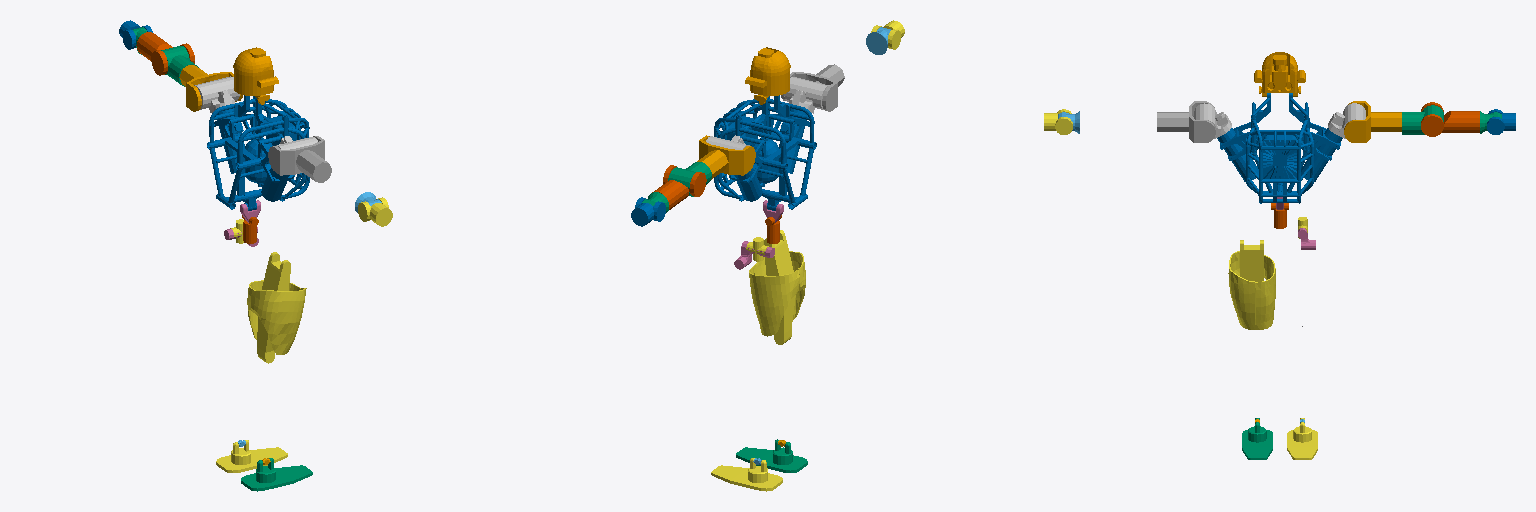
--- Render facts (derived) ---
Views: 3 orthographic renders of the robot side by side, from view 1: azimuth 30°, elevation 25°; view 2: azimuth 150°, elevation 25°; view 3: azimuth 270°, elevation 25°.
Model drc_skeleton with 29 links and 28 joints (28 revolute), rooted at pelvis, posed every joint at zero.
Links seen in each view (by area): view 1: utorso, r_uleg, head, r_scap, r_foot, l_foot, l_clav, l_larm, l_scap, r_hand, l_uarm; view 2: utorso, r_uleg, head, l_scap, l_foot, r_foot, r_scap, r_clav, l_larm, l_hand, l_uarm; view 3: utorso, r_uleg, head, r_scap, l_scap, l_larm, r_foot, l_foot, l_clav, l_uarm, r_clav, l_hand (+1 smaller).
Boxes of the visible links, left/top/right/bottom form: utorso: left=207, top=95, right=309, bottom=210; r_uleg: left=247, top=252, right=306, bottom=363; head: left=233, top=47, right=278, bottom=104; r_scap: left=268, top=136, right=331, bottom=182; r_foot: left=241, top=458, right=312, bottom=491; l_foot: left=216, top=440, right=287, bottom=472; l_clav: left=194, top=76, right=239, bottom=112; l_larm: left=136, top=32, right=194, bottom=75; l_scap: left=179, top=65, right=242, bottom=111; r_hand: left=358, top=197, right=392, bottom=226; l_uarm: left=161, top=46, right=198, bottom=86; utorso: left=714, top=95, right=816, bottom=210; r_uleg: left=749, top=230, right=805, bottom=344; head: left=745, top=47, right=790, bottom=104; l_scap: left=697, top=135, right=755, bottom=179; l_foot: left=711, top=458, right=782, bottom=491; r_foot: left=736, top=439, right=807, bottom=472; r_scap: left=781, top=64, right=844, bottom=111; r_clav: left=784, top=77, right=829, bottom=113; l_larm: left=652, top=165, right=706, bottom=209; l_hand: left=631, top=197, right=665, bottom=226; l_uarm: left=668, top=162, right=711, bottom=196; utorso: left=1217, top=93, right=1342, bottom=203; r_uleg: left=1228, top=240, right=1275, bottom=329; head: left=1254, top=52, right=1305, bottom=96; r_scap: left=1157, top=101, right=1215, bottom=142; l_scap: left=1344, top=101, right=1401, bottom=142; l_larm: left=1421, top=102, right=1479, bottom=136; r_foot: left=1242, top=418, right=1272, bottom=459; l_foot: left=1287, top=418, right=1317, bottom=459; l_clav: left=1328, top=103, right=1365, bottom=138; l_uarm: left=1402, top=105, right=1443, bottom=134; r_clav: left=1193, top=103, right=1231, bottom=138; l_hand: left=1487, top=109, right=1515, bottom=134.
Bounding box of the posed robot: 0.3188 × 1.86 × 1.68 m (x, y, z).
29 mesh visuals loaded from 29 distinct referenced files (29 Collada DAE).

robot.urdf — drc_skeleton:
<robot name="drc_skeleton">
    <link name="head">
        <inertial>
            <mass value="2.6" />
            <origin xyz="-0.004 0 0.056" rpy="0 -0 0" />
            <inertia ixx="0.009" ixy="0" ixz="0" iyy="0.006" iyz="0" izz="0.007" />
        </inertial>
        <visual>
            <origin xyz="0 0 0" rpy="0 -0 0" />
            <geometry>
                <mesh filename="package://mit_robot/meshes/head.dae" scale="1 1 1" />
            </geometry>
        </visual>
        <collision>
            <origin xyz="0 0 0" rpy="0 -0 0" />
            <geometry>
                <mesh filename="package://mit_robot/meshes/head.stl" scale="1 1 1" />
            </geometry>
        </collision>
    </link>
    <link name="l_clav">
        <inertial>
            <mass value="2.369" />
            <origin xyz="0.014 0.058 0.029" rpy="0 -0 0" />
            <inertia ixx="0.004" ixy="0.001" ixz="0" iyy="0.006" iyz="0" izz="0.007" />
        </inertial>
        <visual>
            <origin xyz="0 0 0" rpy="0 -0 0" />
            <geometry>
                <mesh filename="package://mit_robot/meshes/l_clav.dae" scale="1 1 1" />
            </geometry>
        </visual>
        <collision>
            <origin xyz="0 0 0" rpy="0 -0 0" />
            <geometry>
                <mesh filename="package://mit_robot/meshes/l_clav.stl" scale="1 1 1" />
            </geometry>
        </collision>
    </link>
    <link name="l_farm">
        <inertial>
            <mass value="0.981" />
            <origin xyz="0 0.041 0" rpy="0 -0 0" />
            <inertia ixx="0.003" ixy="0" ixz="0" iyy="0.001" iyz="0" izz="0.003" />
        </inertial>
        <visual>
            <origin xyz="0 0 0" rpy="0 -0 0" />
            <geometry>
                <mesh filename="package://mit_robot/meshes/l_farm.dae" scale="1 1 1" />
            </geometry>
        </visual>
        <collision>
            <origin xyz="0 0 0" rpy="0 -0 0" />
            <geometry>
                <mesh filename="package://mit_robot/meshes/l_farm.stl" scale="1 1 1" />
            </geometry>
        </collision>
    </link>
    <link name="l_foot">
        <inertial>
            <mass value="1.634" />
            <origin xyz="0.027 0 -0.067" rpy="0 -0 0" />
            <inertia ixx="0.002" ixy="0" ixz="0" iyy="0.007" iyz="0" izz="0.008" />
        </inertial>
        <visual>
            <origin xyz="0 0 0" rpy="0 -0 0" />
            <geometry>
                <mesh filename="package://mit_robot/meshes/l_foot.dae" scale="1 1 1" />
            </geometry>
        </visual>
        <collision>
            <origin xyz="0 0 0" rpy="0 -0 0" />
            <geometry>
                <mesh filename="package://mit_robot/meshes/l_foot.stl" scale="1 1 1" />
            </geometry>
        </collision>
    </link>
    <link name="l_hand">
        <inertial>
            <mass value="2.263" />
            <origin xyz="0 0.093 0" rpy="0 -0 0" />
            <inertia ixx="0.01" ixy="0" ixz="0" iyy="0.002" iyz="0" izz="0.01" />
        </inertial>
        <visual>
            <origin xyz="0 0 0" rpy="0 -0 0" />
            <geometry>
                <mesh filename="package://mit_robot/meshes/l_hand.dae" scale="1 1 1" />
            </geometry>
        </visual>
        <collision>
            <origin xyz="0 0 0" rpy="0 -0 0" />
            <geometry>
                <mesh filename="package://mit_robot/meshes/l_hand.stl" scale="1 1 1" />
            </geometry>
        </collision>
    </link>
    <link name="l_larm">
        <inertial>
            <mass value="2.148" />
            <origin xyz="-0.003 0.099 -0.014" rpy="0 -0 0" />
            <inertia ixx="0.005" ixy="0" ixz="0" iyy="0.003" iyz="0" izz="0.006" />
        </inertial>
        <visual>
            <origin xyz="0 0 0" rpy="0 -0 0" />
            <geometry>
                <mesh filename="package://mit_robot/meshes/l_larm.dae" scale="1 1 1" />
            </geometry>
        </visual>
        <collision>
            <origin xyz="0 0 0" rpy="0 -0 0" />
            <geometry>
                <mesh filename="package://mit_robot/meshes/l_larm.stl" scale="1 1 1" />
            </geometry>
        </collision>
    </link>
    <link name="l_lglut">
        <inertial>
            <mass value="0.69" />
            <origin xyz="0.0133341 0.0170484 -0.0312052" rpy="0 -0 0" />
            <inertia ixx="0.000691326" ixy="-2.24344e-05" ixz="2.50508e-06" iyy="0.00126856" iyz="0.000137862" izz="0.00106487" />
        </inertial>
        <visual>
            <origin xyz="0 0 0" rpy="0 -0 0" />
            <geometry>
                <mesh filename="package://mit_robot/meshes/l_lglut.dae" scale="1 1 1" />
            </geometry>
        </visual>
        <collision>
            <origin xyz="0 0 0" rpy="0 -0 0" />
            <geometry>
                <mesh filename="package://mit_robot/meshes/l_lglut.stl" scale="1 1 1" />
            </geometry>
        </collision>
    </link>
    <link name="l_lleg">
        <inertial>
            <mass value="4.367" />
            <origin xyz="0.001 0 -0.187" rpy="0 -0 0" />
            <inertia ixx="0.077" ixy="0" ixz="-0.003" iyy="0.076" iyz="0" izz="0.01" />
        </inertial>
        <visual>
            <origin xyz="0 0 0" rpy="0 -0 0" />
            <geometry>
                <mesh filename="package://mit_robot/meshes/l_lleg.dae" scale="1 1 1" />
            </geometry>
        </visual>
        <collision>
            <origin xyz="0 0 0" rpy="0 -0 0" />
            <geometry>
                <mesh filename="package://mit_robot/meshes/l_lleg.stl" scale="1 1 1" />
            </geometry>
        </collision>
    </link>
    <link name="l_scap">
        <inertial>
            <mass value="2.707" />
            <origin xyz="-0.002 0.108 0" rpy="0 -0 0" />
            <inertia ixx="0.01" ixy="0" ixz="0" iyy="0.005" iyz="0" izz="0.013" />
        </inertial>
        <visual>
            <origin xyz="0 0 0" rpy="0 -0 0" />
            <geometry>
                <mesh filename="package://mit_robot/meshes/l_scap.dae" scale="1 1 1" />
            </geometry>
        </visual>
        <collision>
            <origin xyz="0 0 0" rpy="0 -0 0" />
            <geometry>
                <mesh filename="package://mit_robot/meshes/l_scap.stl" scale="1 1 1" />
            </geometry>
        </collision>
    </link>
    <link name="l_talus">
        <inertial>
            <mass value="0.1" />
            <origin xyz="0 0 0" rpy="0 -0 0" />
            <inertia ixx="1.01674e-05" ixy="0" ixz="0" iyy="8.42775e-06" iyz="0" izz="1.30101e-05" />
        </inertial>
        <visual>
            <origin xyz="0 0 0" rpy="0 -0 0" />
            <geometry>
                <mesh filename="package://mit_robot/meshes/l_talus.dae" scale="1 1 1" />
            </geometry>
        </visual>
        <collision>
            <origin xyz="0 0 0" rpy="0 -0 0" />
            <geometry>
                <mesh filename="package://mit_robot/meshes/l_talus.stl" scale="1 1 1" />
            </geometry>
        </collision>
    </link>
    <link name="l_uarm">
        <inertial>
            <mass value="1.881" />
            <origin xyz="0.007 0.114 0.008" rpy="0 -0 0" />
            <inertia ixx="0.002" ixy="0" ixz="0" iyy="0.003" iyz="0" izz="0.003" />
        </inertial>
        <visual>
            <origin xyz="0 0 0" rpy="0 -0 0" />
            <geometry>
                <mesh filename="package://mit_robot/meshes/l_uarm.dae" scale="1 1 1" />
            </geometry>
        </visual>
        <collision>
            <origin xyz="0 0 0" rpy="0 -0 0" />
            <geometry>
                <mesh filename="package://mit_robot/meshes/l_uarm.stl" scale="1 1 1" />
            </geometry>
        </collision>
    </link>
    <link name="l_uglut">
        <inertial>
            <mass value="0.5166" />
            <origin xyz="0.00529262 -0.00344732 0.00313046" rpy="0 -0 0" />
            <inertia ixx="0.00074276" ixy="-3.79607e-08" ixz="-2.79549e-05" iyy="0.000688179" iyz="-3.2735e-08" izz="0.00041242" />
        </inertial>
        <visual>
            <origin xyz="0 0 0" rpy="0 -0 0" />
            <geometry>
                <mesh filename="package://mit_robot/meshes/l_uglut.dae" scale="1 1 1" />
            </geometry>
        </visual>
        <collision>
            <origin xyz="0 0 0" rpy="0 -0 0" />
            <geometry>
                <mesh filename="package://mit_robot/meshes/l_uglut.stl" scale="1 1 1" />
            </geometry>
        </collision>
    </link>
    <link name="l_uleg">
        <inertial>
            <mass value="7.34" />
            <origin xyz="0 0 -0.21" rpy="0 -0 0" />
            <inertia ixx="0.09" ixy="0" ixz="0" iyy="0.09" iyz="0" izz="0.02" />
        </inertial>
        <visual>
            <origin xyz="0 0 0" rpy="0 -0 0" />
            <geometry>
                <mesh filename="package://mit_robot/meshes/l_uleg.dae" scale="1 1 1" />
            </geometry>
        </visual>
        <collision>
            <origin xyz="0 0 0" rpy="0 -0 0" />
            <geometry>
                <mesh filename="package://mit_robot/meshes/l_uleg.stl" scale="1 1 1" />
            </geometry>
        </collision>
    </link>
    <link name="ltorso">
        <inertial>
            <mass value="1.92" />
            <origin xyz="-0.0112984 -3.15366e-06 0.0746835" rpy="0 -0 0" />
            <inertia ixx="0.0039092" ixy="-5.04491e-08" ixz="-0.000342157" iyy="0.00341694" iyz="4.87119e-07" izz="0.00174492" />
        </inertial>
        <visual>
            <origin xyz="0 0 0" rpy="0 -0 0" />
            <geometry>
                <mesh filename="package://mit_robot/meshes/ltorso.dae" scale="1 1 1" />
            </geometry>
        </visual>
        <collision>
            <origin xyz="0 0 0" rpy="0 -0 0" />
            <geometry>
                <mesh filename="package://mit_robot/meshes/ltorso.stl" scale="1 1 1" />
            </geometry>
        </collision>
    </link>
    <link name="mtorso">
        <inertial>
            <mass value="0.55" />
            <origin xyz="-0.00816266 -0.0131245 0.0305974" rpy="0 -0 0" />
            <inertia ixx="0.000454181" ixy="-6.10764e-05" ixz="3.94009e-05" iyy="0.000483282" iyz="5.27463e-05" izz="0.000444215" />
        </inertial>
        <visual>
            <origin xyz="0 0 0" rpy="0 -0 0" />
            <geometry>
                <mesh filename="package://mit_robot/meshes/mtorso.dae" scale="1 1 1" />
            </geometry>
        </visual>
        <collision>
            <origin xyz="0 0 0" rpy="0 -0 0" />
            <geometry>
                <mesh filename="package://mit_robot/meshes/mtorso.stl" scale="1 1 1" />
            </geometry>
        </collision>
    </link>
    <link name="pelvis">
        <inertial>
            <mass value="14.2529" />
            <origin xyz="0.0111 0 0.0271" rpy="0 -0 0" />
            <inertia ixx="0.1244" ixy="0.0008" ixz="-0.0007" iyy="0.0958" iyz="-0.0005" izz="0.1167" />
        </inertial>
        <visual>
            <origin xyz="0 0 0" rpy="0 -0 0" />
            <geometry>
                <mesh filename="package://mit_robot/meshes/pelvis.dae" scale="1 1 1" />
            </geometry>
        </visual>
        <collision>
            <origin xyz="0 0 0" rpy="0 -0 0" />
            <geometry>
                <mesh filename="package://mit_robot/meshes/pelvis.stl" scale="1 1 1" />
            </geometry>
        </collision>
    </link>
    <link name="r_clav">
        <inertial>
            <mass value="2.369" />
            <origin xyz="0.014 -0.058 0.029" rpy="0 -0 0" />
            <inertia ixx="0.004" ixy="-0.001" ixz="0" iyy="0.006" iyz="0" izz="0.007" />
        </inertial>
        <visual>
            <origin xyz="0 0 0" rpy="0 -0 0" />
            <geometry>
                <mesh filename="package://mit_robot/meshes/r_clav.dae" scale="1 1 1" />
            </geometry>
        </visual>
        <collision>
            <origin xyz="0 0 0" rpy="0 -0 0" />
            <geometry>
                <mesh filename="package://mit_robot/meshes/r_clav.stl" scale="1 1 1" />
            </geometry>
        </collision>
    </link>
    <link name="r_farm">
        <inertial>
            <mass value="0.981" />
            <origin xyz="0 -0.041 0" rpy="0 -0 0" />
            <inertia ixx="0.003" ixy="0" ixz="0" iyy="0.001" iyz="0" izz="0.003" />
        </inertial>
        <visual>
            <origin xyz="0 0 0" rpy="0 -0 0" />
            <geometry>
                <mesh filename="package://mit_robot/meshes/r_farm.dae" scale="1 1 1" />
            </geometry>
        </visual>
        <collision>
            <origin xyz="0 0 0" rpy="0 -0 0" />
            <geometry>
                <mesh filename="package://mit_robot/meshes/r_farm.stl" scale="1 1 1" />
            </geometry>
        </collision>
    </link>
    <link name="r_foot">
        <inertial>
            <mass value="1.634" />
            <origin xyz="0.027 0 -0.067" rpy="0 -0 0" />
            <inertia ixx="0.002" ixy="0" ixz="0" iyy="0.007" iyz="0" izz="0.008" />
        </inertial>
        <visual>
            <origin xyz="0 0 0" rpy="0 -0 0" />
            <geometry>
                <mesh filename="package://mit_robot/meshes/r_foot.dae" scale="1 1 1" />
            </geometry>
        </visual>
        <collision>
            <origin xyz="0 0 0" rpy="0 -0 0" />
            <geometry>
                <mesh filename="package://mit_robot/meshes/r_foot.stl" scale="1 1 1" />
            </geometry>
        </collision>
    </link>
    <link name="r_hand">
        <inertial>
            <mass value="2.263" />
            <origin xyz="0 -0.093 0" rpy="0 -0 0" />
            <inertia ixx="0.01" ixy="0" ixz="0" iyy="0.002" iyz="0" izz="0.01" />
        </inertial>
        <visual>
            <origin xyz="0 0 0" rpy="0 -0 0" />
            <geometry>
                <mesh filename="package://mit_robot/meshes/r_hand.dae" scale="1 1 1" />
            </geometry>
        </visual>
        <collision>
            <origin xyz="0 0 0" rpy="0 -0 0" />
            <geometry>
                <mesh filename="package://mit_robot/meshes/r_hand.stl" scale="1 1 1" />
            </geometry>
        </collision>
    </link>
    <link name="r_larm">
        <inertial>
            <mass value="2.148" />
            <origin xyz="-0.003 -0.099 -0.014" rpy="0 -0 0" />
            <inertia ixx="0.005" ixy="0" ixz="0" iyy="0.003" iyz="0" izz="0.006" />
        </inertial>
        <visual>
            <origin xyz="0 0 0" rpy="0 -0 0" />
            <geometry>
                <mesh filename="package://mit_robot/meshes/r_larm.dae" scale="1 1 1" />
            </geometry>
        </visual>
        <collision>
            <origin xyz="0 0 0" rpy="0 -0 0" />
            <geometry>
                <mesh filename="package://mit_robot/meshes/r_larm.stl" scale="1 1 1" />
            </geometry>
        </collision>
    </link>
    <link name="r_lglut">
        <inertial>
            <mass value="0.69" />
            <origin xyz="0.0133341 -0.0170484 -0.0312052" rpy="0 -0 0" />
            <inertia ixx="0.000691326" ixy="2.24344e-05" ixz="2.50508e-06" iyy="0.00126856" iyz="-0.000137862" izz="0.00106487" />
        </inertial>
        <visual>
            <origin xyz="0 0 0" rpy="0 -0 0" />
            <geometry>
                <mesh filename="package://mit_robot/meshes/r_lglut.dae" scale="1 1 1" />
            </geometry>
        </visual>
        <collision>
            <origin xyz="0 0 0" rpy="0 -0 0" />
            <geometry>
                <mesh filename="package://mit_robot/meshes/r_lglut.stl" scale="1 1 1" />
            </geometry>
        </collision>
    </link>
    <link name="r_lleg">
        <inertial>
            <mass value="4.367" />
            <origin xyz="0.001 0 -0.187" rpy="0 -0 0" />
            <inertia ixx="0.077" ixy="-0" ixz="-0.003" iyy="0.076" iyz="-0" izz="0.01" />
        </inertial>
        <visual>
            <origin xyz="0 0 0" rpy="0 -0 0" />
            <geometry>
                <mesh filename="package://mit_robot/meshes/r_lleg.dae" scale="1 1 1" />
            </geometry>
        </visual>
        <collision>
            <origin xyz="0 0 0" rpy="0 -0 0" />
            <geometry>
                <mesh filename="package://mit_robot/meshes/r_lleg.stl" scale="1 1 1" />
            </geometry>
        </collision>
    </link>
    <link name="r_scap">
        <inertial>
            <mass value="2.707" />
            <origin xyz="-0.002 -0.108 0" rpy="0 -0 0" />
            <inertia ixx="0.01" ixy="0" ixz="0" iyy="0.005" iyz="0" izz="0.013" />
        </inertial>
        <visual>
            <origin xyz="0 0 0" rpy="0 -0 0" />
            <geometry>
                <mesh filename="package://mit_robot/meshes/r_scap.dae" scale="1 1 1" />
            </geometry>
        </visual>
        <collision>
            <origin xyz="0 0 0" rpy="0 -0 0" />
            <geometry>
                <mesh filename="package://mit_robot/meshes/r_scap.stl" scale="1 1 1" />
            </geometry>
        </collision>
    </link>
    <link name="r_talus">
        <inertial>
            <mass value="0.1" />
            <origin xyz="0 0 0" rpy="0 -0 0" />
            <inertia ixx="1.01674e-05" ixy="0" ixz="0" iyy="8.42775e-06" iyz="0" izz="1.30101e-05" />
        </inertial>
        <visual>
            <origin xyz="0 0 0" rpy="0 -0 0" />
            <geometry>
                <mesh filename="package://mit_robot/meshes/r_talus.dae" scale="1 1 1" />
            </geometry>
        </visual>
        <collision>
            <origin xyz="0 0 0" rpy="0 -0 0" />
            <geometry>
                <mesh filename="package://mit_robot/meshes/r_talus.stl" scale="1 1 1" />
            </geometry>
        </collision>
    </link>
    <link name="r_uarm">
        <inertial>
            <mass value="1.881" />
            <origin xyz="0.007 -0.114 0.008" rpy="0 -0 0" />
            <inertia ixx="0.002" ixy="0" ixz="0" iyy="0.003" iyz="0" izz="0.003" />
        </inertial>
        <visual>
            <origin xyz="0 0 0" rpy="0 -0 0" />
            <geometry>
                <mesh filename="package://mit_robot/meshes/r_uarm.dae" scale="1 1 1" />
            </geometry>
        </visual>
        <collision>
            <origin xyz="0 0 0" rpy="0 -0 0" />
            <geometry>
                <mesh filename="package://mit_robot/meshes/r_uarm.stl" scale="1 1 1" />
            </geometry>
        </collision>
    </link>
    <link name="r_uglut">
        <inertial>
            <mass value="0.5166" />
            <origin xyz="0.00529262 0.00344732 0.00313046" rpy="0 -0 0" />
            <inertia ixx="0.00074276" ixy="3.79607e-08" ixz="-2.79549e-05" iyy="0.000688179" iyz="3.2735e-08" izz="0.00041242" />
        </inertial>
        <visual>
            <origin xyz="0 0 0" rpy="0 -0 0" />
            <geometry>
                <mesh filename="package://mit_robot/meshes/r_uglut.dae" scale="1 1 1" />
            </geometry>
        </visual>
        <collision>
            <origin xyz="0 0 0" rpy="0 -0 0" />
            <geometry>
                <mesh filename="package://mit_robot/meshes/r_uglut.stl" scale="1 1 1" />
            </geometry>
        </collision>
    </link>
    <link name="r_uleg">
        <inertial>
            <mass value="7.34" />
            <origin xyz="0 0 -0.21" rpy="0 -0 0" />
            <inertia ixx="0.09" ixy="0" ixz="0" iyy="0.09" iyz="0" izz="0.02" />
        </inertial>
        <visual>
            <origin xyz="0 0 0" rpy="0 -0 0" />
            <geometry>
                <mesh filename="package://mit_robot/meshes/r_uleg.dae" scale="1 1 1" />
            </geometry>
        </visual>
        <collision>
            <origin xyz="0 0 0" rpy="0 -0 0" />
            <geometry>
                <mesh filename="package://mit_robot/meshes/r_uleg.stl" scale="1 1 1" />
            </geometry>
        </collision>
    </link>
    <link name="utorso">
        <inertial>
            <mass value="18.484" />
            <origin xyz="0.02 -0.001 0.211" rpy="0 -0 0" />
            <inertia ixx="0.395" ixy="0" ixz="0.083" iyy="1.089" iyz="-0.003" izz="0.327" />
        </inertial>
        <visual>
            <origin xyz="0 0 0" rpy="0 -0 0" />
            <geometry>
                <mesh filename="package://mit_robot/meshes/utorso.dae" scale="1 1 1" />
            </geometry>
        </visual>
        <collision>
            <origin xyz="0 0 0" rpy="0 -0 0" />
            <geometry>
                <mesh filename="package://mit_robot/meshes/utorso.stl" scale="1 1 1" />
            </geometry>
        </collision>
    </link>
    <joint name="back_lbz" type="revolute">
        <origin xyz="-0.0125 0 0" rpy="0 -0 0" />
        <axis xyz="0 0 1" />
        <parent link="pelvis" />
        <child link="ltorso" />
        <dynamics damping="0.1" friction="0" />
        <limit effort="124.016" velocity="12" lower="-0.610865" upper="0.610865" />
        <safety_controller k_position="100" k_velocity="100" soft_lower_limit="-10.6109" soft_upper_limit="10.6109" />
    </joint>
    <joint name="back_mby" type="revolute">
        <origin xyz="0 0 0.09" rpy="0 -0 0" />
        <axis xyz="0 1 0" />
        <parent link="ltorso" />
        <child link="mtorso" />
        <dynamics damping="0.1" friction="0" />
        <limit effort="206.843" velocity="12" lower="-1.2" upper="1.28" />
        <safety_controller k_position="100" k_velocity="100" soft_lower_limit="-11.2" soft_upper_limit="11.28" />
    </joint>
    <joint name="back_ubx" type="revolute">
        <origin xyz="0 0 0.05" rpy="0 -0 0" />
        <axis xyz="1 0 0" />
        <parent link="mtorso" />
        <child link="utorso" />
        <dynamics damping="0.1" friction="0" />
        <limit effort="94.91" velocity="12" lower="-0.790809" upper="0.790809" />
        <safety_controller k_position="100" k_velocity="100" soft_lower_limit="-10.7908" soft_upper_limit="10.7908" />
    </joint>
    <joint name="l_arm_elx" type="revolute">
        <origin xyz="0 0.121 0.013" rpy="0 -0 0" />
        <axis xyz="1 0 0" />
        <parent link="l_uarm" />
        <child link="l_larm" />
        <dynamics damping="0.1" friction="0" />
        <limit effort="114" velocity="12" lower="0" upper="2.35619" />
        <safety_controller k_position="100" k_velocity="100" soft_lower_limit="-10" soft_upper_limit="12.3562" />
    </joint>
    <joint name="l_arm_ely" type="revolute">
        <origin xyz="0 0.185 0" rpy="0 -0 0" />
        <axis xyz="0 1 0" />
        <parent link="l_scap" />
        <child link="l_uarm" />
        <dynamics damping="0.1" friction="0" />
        <limit effort="114" velocity="12" lower="0" upper="3.14159" />
        <safety_controller k_position="100" k_velocity="100" soft_lower_limit="-10" soft_upper_limit="13.1416" />
    </joint>
    <joint name="l_arm_mwx" type="revolute">
        <origin xyz="0 0.058 0" rpy="0 -0 0" />
        <axis xyz="1 0 0" />
        <parent link="l_farm" />
        <child link="l_hand" />
        <dynamics damping="0.1" friction="0" />
        <limit effort="60" velocity="12" lower="-0.436" upper="1.571" />
        <safety_controller k_position="100" k_velocity="100" soft_lower_limit="-10.436" soft_upper_limit="11.571" />
    </joint>
    <joint name="l_arm_shx" type="revolute">
        <origin xyz="0 0.075 0.036" rpy="0 -0 0" />
        <axis xyz="1 0 0" />
        <parent link="l_clav" />
        <child link="l_scap" />
        <dynamics damping="0.1" friction="0" />
        <limit effort="170" velocity="12" lower="-1.39626" upper="1.74533" />
        <safety_controller k_position="100" k_velocity="100" soft_lower_limit="-11.3963" soft_upper_limit="11.7453" />
    </joint>
    <joint name="l_arm_usy" type="revolute">
        <origin xyz="0.024 0.221 0.289" rpy="0 -0 0" />
        <axis xyz="0 0.5 0.866025" />
        <parent link="utorso" />
        <child link="l_clav" />
        <dynamics damping="0.1" friction="0" />
        <limit effort="212" velocity="12" lower="-1.9635" upper="1.9635" />
        <safety_controller k_position="100" k_velocity="100" soft_lower_limit="-11.9635" soft_upper_limit="11.9635" />
    </joint>
    <joint name="l_arm_uwy" type="revolute">
        <origin xyz="0 0.188 -0.013" rpy="0 -0 0" />
        <axis xyz="0 1 0" />
        <parent link="l_larm" />
        <child link="l_farm" />
        <dynamics damping="0.1" friction="0" />
        <limit effort="114" velocity="12" lower="-1.571" upper="1.571" />
        <safety_controller k_position="100" k_velocity="100" soft_lower_limit="-11.571" soft_upper_limit="11.571" />
    </joint>
    <joint name="l_leg_kny" type="revolute">
        <origin xyz="-0.05 0 -0.374" rpy="0 -0 0" />
        <axis xyz="0 1 0" />
        <parent link="l_uleg" />
        <child link="l_lleg" />
        <dynamics damping="0.1" friction="0" />
        <limit effort="220" velocity="12" lower="0" upper="2.45" />
        <safety_controller k_position="100" k_velocity="100" soft_lower_limit="-10" soft_upper_limit="12.45" />
    </joint>
    <joint name="l_leg_lax" type="revolute">
        <origin xyz="0 0 0" rpy="0 -0 0" />
        <axis xyz="1 0 0" />
        <parent link="l_talus" />
        <child link="l_foot" />
        <dynamics damping="0.1" friction="0" />
        <limit effort="90" velocity="12" lower="-0.436" upper="0.436" />
        <safety_controller k_position="100" k_velocity="100" soft_lower_limit="-10.436" soft_upper_limit="10.436" />
    </joint>
    <joint name="l_leg_lhy" type="revolute">
        <origin xyz="0.05 0 -0.05" rpy="0 -0 0" />
        <axis xyz="0 1 0" />
        <parent link="l_lglut" />
        <child link="l_uleg" />
        <dynamics damping="0.1" friction="0" />
        <limit effort="260" velocity="12" lower="-1.75" upper="0.524" />
        <safety_controller k_position="100" k_velocity="100" soft_lower_limit="-11.75" soft_upper_limit="10.524" />
    </joint>
    <joint name="l_leg_mhx" type="revolute">
        <origin xyz="0 0 0" rpy="0 -0 0" />
        <axis xyz="1 0 0" />
        <parent link="l_uglut" />
        <child link="l_lglut" />
        <dynamics damping="0.1" friction="0" />
        <limit effort="180" velocity="12" lower="-0.47" upper="0.495" />
        <safety_controller k_position="100" k_velocity="100" soft_lower_limit="-10.47" soft_upper_limit="10.495" />
    </joint>
    <joint name="l_leg_uay" type="revolute">
        <origin xyz="0 0 -0.422" rpy="0 -0 0" />
        <axis xyz="0 1 0" />
        <parent link="l_lleg" />
        <child link="l_talus" />
        <dynamics damping="0.1" friction="0" />
        <limit effort="220" velocity="12" lower="-0.698" upper="0.698" />
        <safety_controller k_position="100" k_velocity="100" soft_lower_limit="-10.698" soft_upper_limit="10.698" />
    </joint>
    <joint name="l_leg_uhz" type="revolute">
        <origin xyz="0 0.089 0" rpy="0 -0 0" />
        <axis xyz="0 0 1" />
        <parent link="pelvis" />
        <child link="l_uglut" />
        <dynamics damping="0.1" friction="0" />
        <limit effort="110" velocity="12" lower="-0.32" upper="1.14" />
        <safety_controller k_position="100" k_velocity="100" soft_lower_limit="-10.32" soft_upper_limit="11.14" />
    </joint>
    <joint name="neck_ay" type="revolute">
        <origin xyz="0.011 0 0.44" rpy="0 -0 0" />
        <axis xyz="0 1 0" />
        <parent link="utorso" />
        <child link="head" />
        <dynamics damping="0.1" friction="0" />
        <limit effort="5" velocity="12" lower="-0.785398" upper="0.785398" />
        <safety_controller k_position="100" k_velocity="100" soft_lower_limit="-10.7854" soft_upper_limit="10.7854" />
    </joint>
    <joint name="r_arm_elx" type="revolute">
        <origin xyz="0 -0.121 0.013" rpy="0 -0 0" />
        <axis xyz="1 0 0" />
        <parent link="r_uarm" />
        <child link="r_larm" />
        <dynamics damping="0.1" friction="0" />
        <limit effort="114" velocity="12" lower="-2.35619" upper="0" />
        <safety_controller k_position="100" k_velocity="100" soft_lower_limit="-12.3562" soft_upper_limit="10" />
    </joint>
    <joint name="r_arm_ely" type="revolute">
        <origin xyz="0 -0.185 0" rpy="0 -0 0" />
        <axis xyz="0 1 0" />
        <parent link="r_scap" />
        <child link="r_uarm" />
        <dynamics damping="0.1" friction="0" />
        <limit effort="114" velocity="12" lower="0" upper="3.14159" />
        <safety_controller k_position="100" k_velocity="100" soft_lower_limit="-10" soft_upper_limit="13.1416" />
    </joint>
    <joint name="r_arm_mwx" type="revolute">
        <origin xyz="0 -0.058 0" rpy="0 -0 0" />
        <axis xyz="1 0 0" />
        <parent link="r_farm" />
        <child link="r_hand" />
        <dynamics damping="0.1" friction="0" />
        <limit effort="60" velocity="12" lower="-1.571" upper="0.436" />
        <safety_controller k_position="100" k_velocity="100" soft_lower_limit="-11.571" soft_upper_limit="10.436" />
    </joint>
    <joint name="r_arm_shx" type="revolute">
        <origin xyz="0 -0.075 0.036" rpy="0 -0 0" />
        <axis xyz="1 0 0" />
        <parent link="r_clav" />
        <child link="r_scap" />
        <dynamics damping="0.1" friction="0" />
        <limit effort="170" velocity="12" lower="-1.74533" upper="1.39626" />
        <safety_controller k_position="100" k_velocity="100" soft_lower_limit="-11.7453" soft_upper_limit="11.3963" />
    </joint>
    <joint name="r_arm_usy" type="revolute">
        <origin xyz="0.024 -0.221 0.289" rpy="0 -0 0" />
        <axis xyz="0 -0.5 0.866025" />
        <parent link="utorso" />
        <child link="r_clav" />
        <dynamics damping="0.1" friction="0" />
        <limit effort="212" velocity="12" lower="-1.9635" upper="1.9635" />
        <safety_controller k_position="100" k_velocity="100" soft_lower_limit="-11.9635" soft_upper_limit="11.9635" />
    </joint>
    <joint name="r_arm_uwy" type="revolute">
        <origin xyz="0 -0.188 -0.013" rpy="0 -0 0" />
        <axis xyz="0 1 0" />
        <parent link="r_larm" />
        <child link="r_farm" />
        <dynamics damping="0.1" friction="0" />
        <limit effort="114" velocity="12" lower="-1.571" upper="1.571" />
        <safety_controller k_position="100" k_velocity="100" soft_lower_limit="-11.571" soft_upper_limit="11.571" />
    </joint>
    <joint name="r_leg_kny" type="revolute">
        <origin xyz="-0.05 0 -0.374" rpy="0 -0 0" />
        <axis xyz="0 1 0" />
        <parent link="r_uleg" />
        <child link="r_lleg" />
        <dynamics damping="0.1" friction="0" />
        <limit effort="220" velocity="12" lower="0" upper="2.45" />
        <safety_controller k_position="100" k_velocity="100" soft_lower_limit="-10" soft_upper_limit="12.45" />
    </joint>
    <joint name="r_leg_lax" type="revolute">
        <origin xyz="0 0 0" rpy="0 -0 0" />
        <axis xyz="1 0 0" />
        <parent link="r_talus" />
        <child link="r_foot" />
        <dynamics damping="0.1" friction="0" />
        <limit effort="90" velocity="12" lower="-0.436" upper="0.436" />
        <safety_controller k_position="100" k_velocity="100" soft_lower_limit="-10.436" soft_upper_limit="10.436" />
    </joint>
    <joint name="r_leg_lhy" type="revolute">
        <origin xyz="0.05 0 -0.05" rpy="0 -0 0" />
        <axis xyz="0 1 0" />
        <parent link="r_lglut" />
        <child link="r_uleg" />
        <dynamics damping="0.1" friction="0" />
        <limit effort="260" velocity="12" lower="-1.745" upper="0.524" />
        <safety_controller k_position="100" k_velocity="100" soft_lower_limit="-11.745" soft_upper_limit="10.524" />
    </joint>
    <joint name="r_leg_mhx" type="revolute">
        <origin xyz="0 0 0" rpy="0 -0 0" />
        <axis xyz="1 0 0" />
        <parent link="r_uglut" />
        <child link="r_lglut" />
        <dynamics damping="0.1" friction="0" />
        <limit effort="180" velocity="12" lower="-0.495" upper="0.47" />
        <safety_controller k_position="100" k_velocity="100" soft_lower_limit="-10.495" soft_upper_limit="10.47" />
    </joint>
    <joint name="r_leg_uay" type="revolute">
        <origin xyz="0 0 -0.422" rpy="0 -0 0" />
        <axis xyz="0 1 0" />
        <parent link="r_lleg" />
        <child link="r_talus" />
        <dynamics damping="0.1" friction="0" />
        <limit effort="220" velocity="12" lower="-0.698" upper="0.698" />
        <safety_controller k_position="100" k_velocity="100" soft_lower_limit="-10.698" soft_upper_limit="10.698" />
    </joint>
    <joint name="r_leg_uhz" type="revolute">
        <origin xyz="0 -0.089 0" rpy="0 -0 0" />
        <axis xyz="0 0 1" />
        <parent link="pelvis" />
        <child link="r_uglut" />
        <dynamics damping="0.1" friction="0" />
        <limit effort="260" velocity="12" lower="-1.14" upper="0.32" />
        <safety_controller k_position="100" k_velocity="100" soft_lower_limit="-11.14" soft_upper_limit="10.32" />
    </joint>
</robot>
